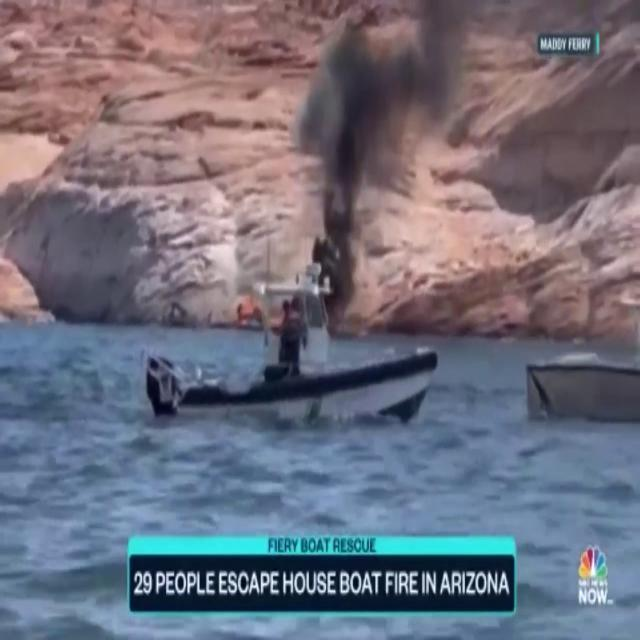Smoke: (291, 2, 464, 280)
